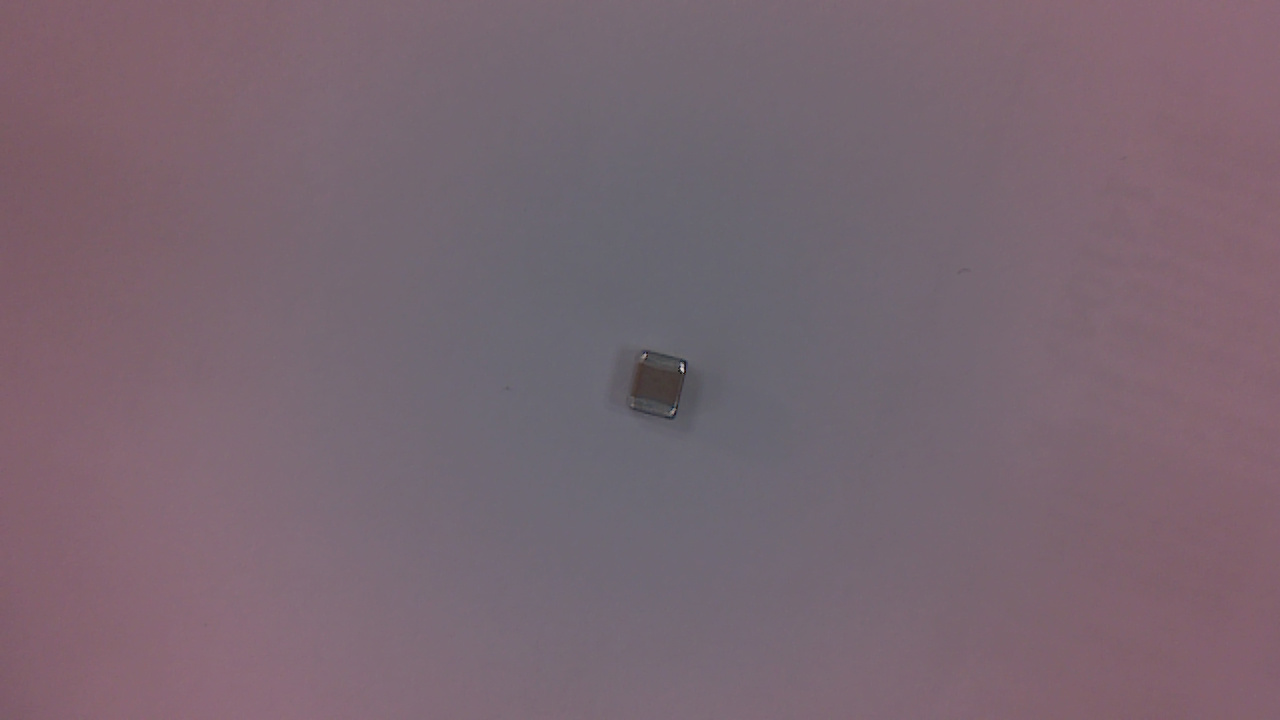Condensator: (631, 351, 693, 430)
